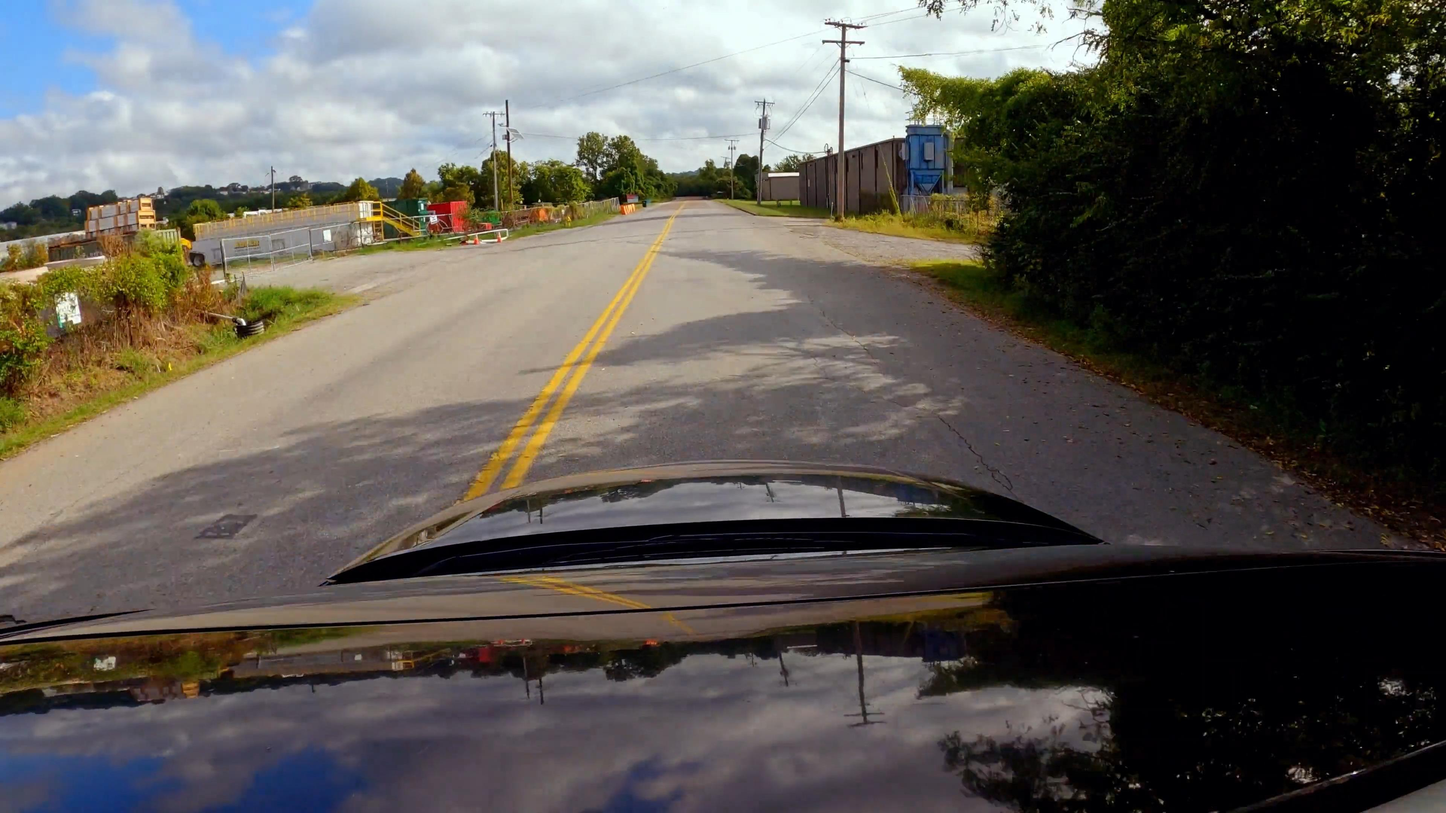dry: (0, 197, 1445, 619)
